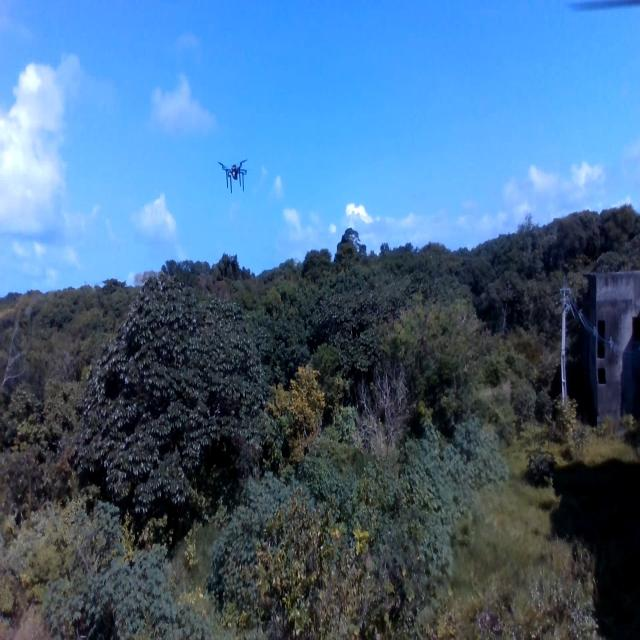-uav-: (215, 146, 253, 200)
